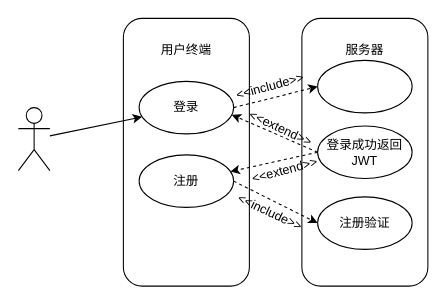
This 446x305 diagram has some shape labels left out. The shapes that lost their labels are listed below. From the top down, each one's box as (x1, y1, x2, y2) in pixels, then its label:
(317, 59, 412, 113): 验证密码
(17, 107, 50, 171): 用户
